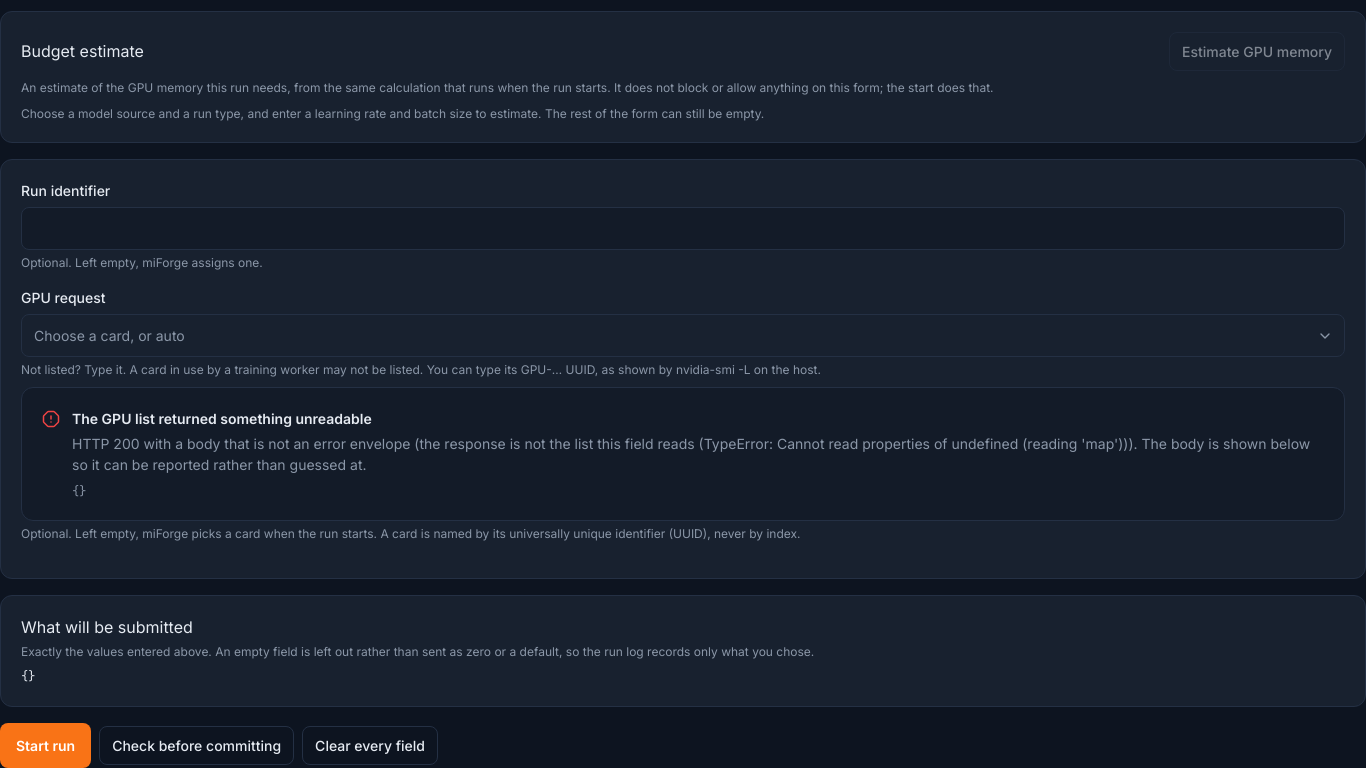
it: [NewRunForm] › should put a 422 from the CHECK beside its fields, not dump it as raw JSON
(page scrolled)
Click the button with test id "check-definition" at (197, 745), box [99,726,294,765]
(page scrolled)
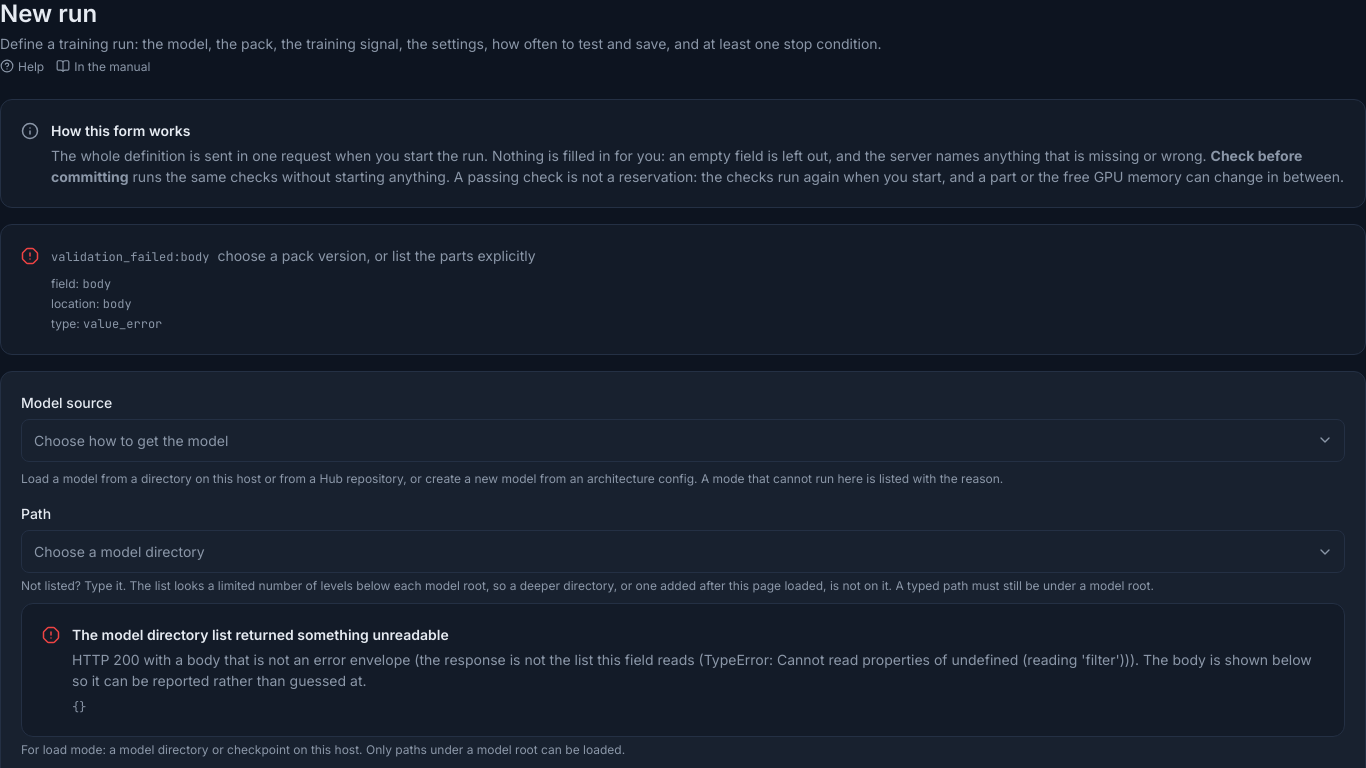
Check: the message with test id "refusal-validation_failed:body" does not show "Value error", box [0,224,1365,355]
Check: the message with test id "refusal-validation_failed:body" shows "choose a pack version", box [217,247,536,264]
